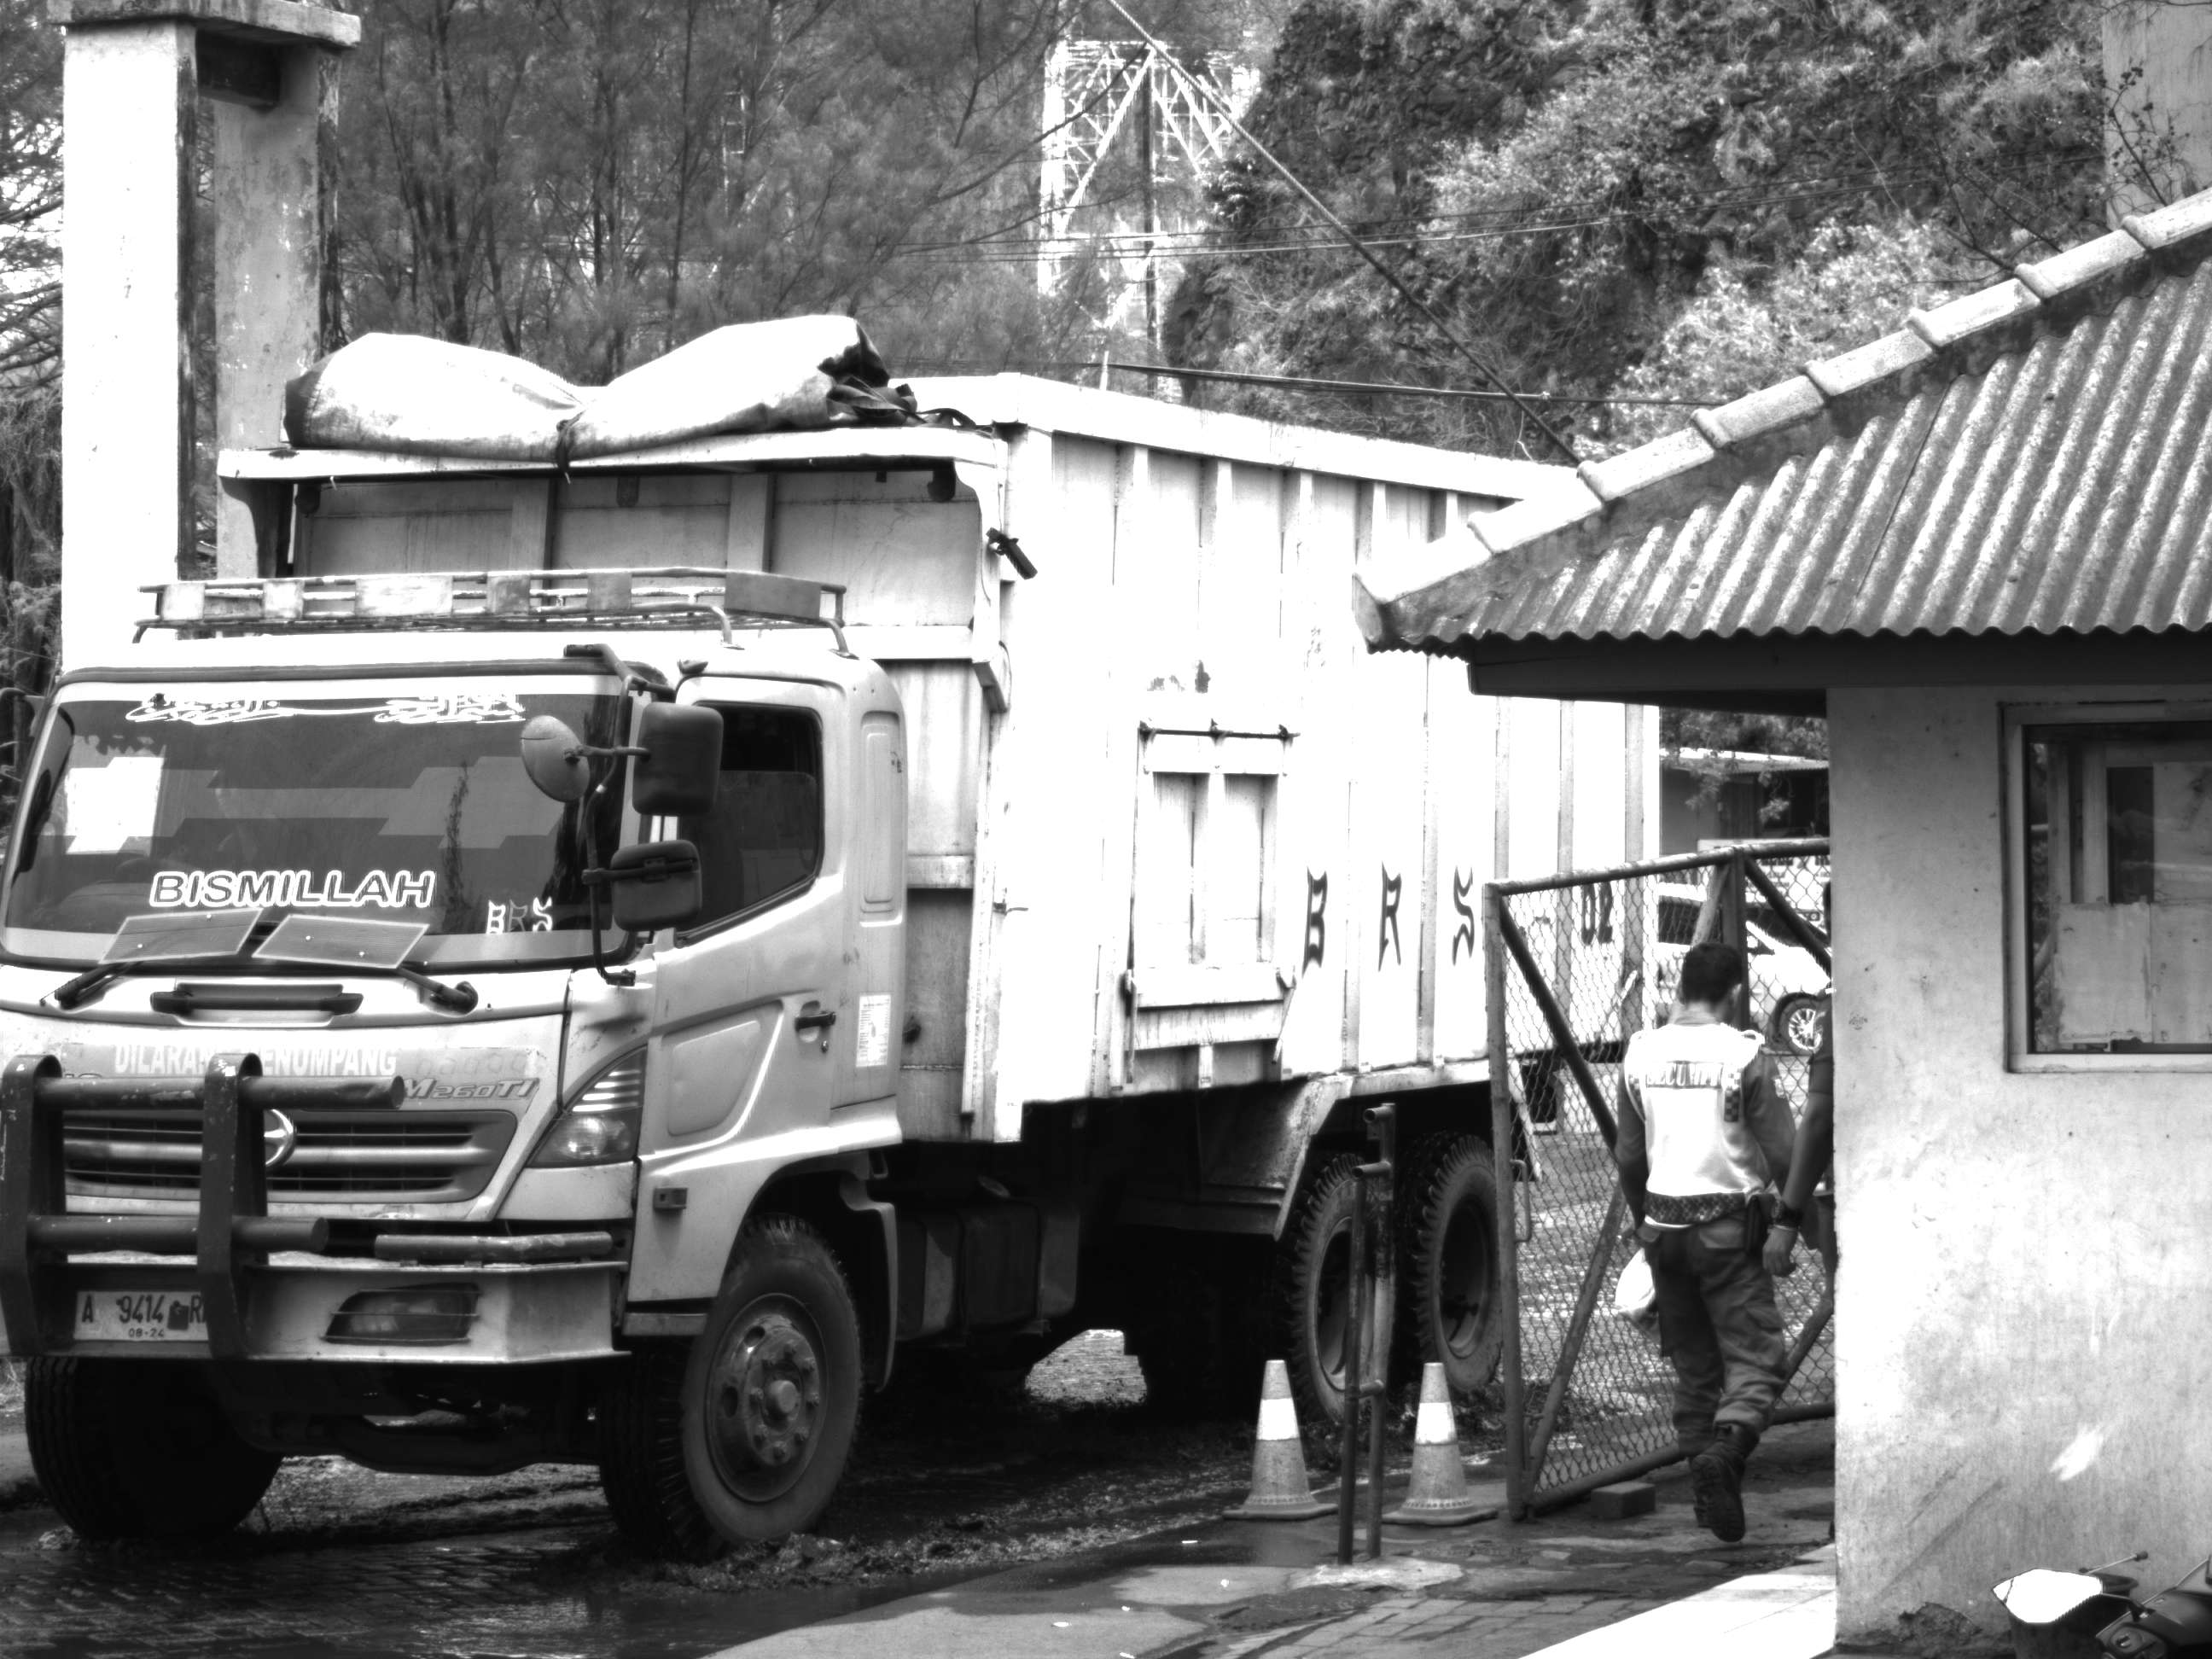day_truck_front: (3, 566, 897, 1560)
plate: (70, 1281, 224, 1348)
